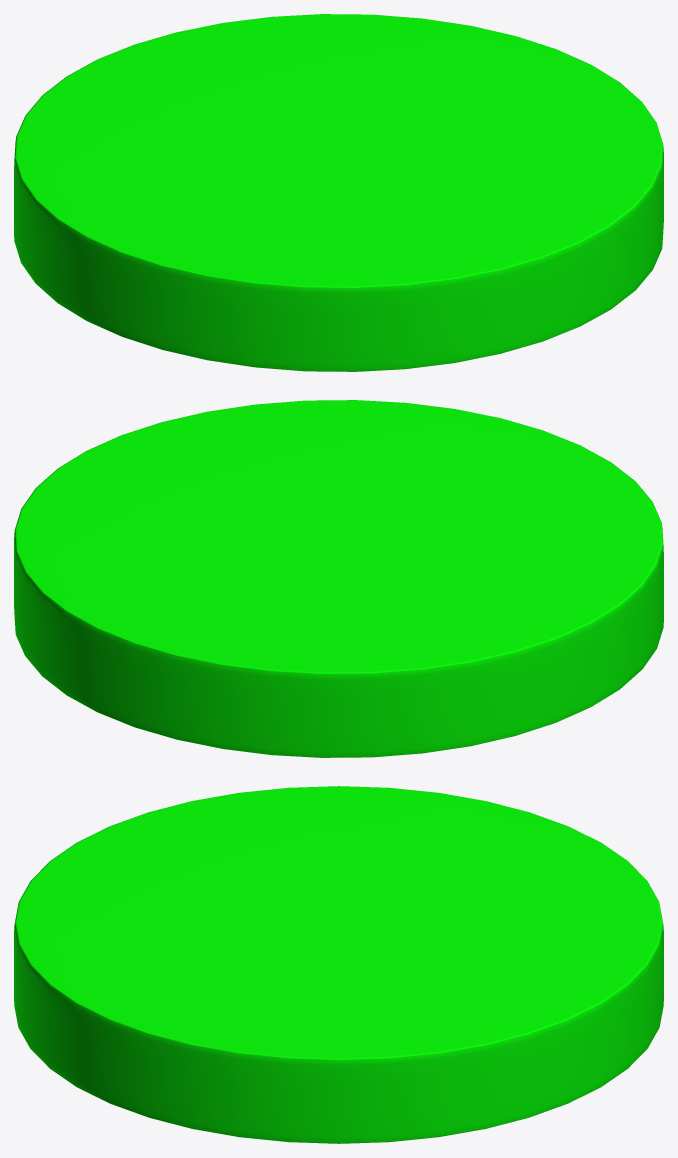
The model's file is kin-fine-camera.glb.
3 views of the same model, one above another, from view 1: azimuth 30°, elevation 25°; view 2: azimuth 150°, elevation 25°; view 3: azimuth 270°, elevation 25° (orthographic).
Parts seen in each view (by area): view 1: pSphere8; view 2: pSphere8; view 3: pSphere8.
Part boxes in pixels (box(x1,y1,x2,y2)): pSphere8: box(14, 14, 663, 371); pSphere8: box(14, 400, 663, 757); pSphere8: box(14, 786, 663, 1143).
Size of the model in its own units: 20 by 5.66 by 20.
